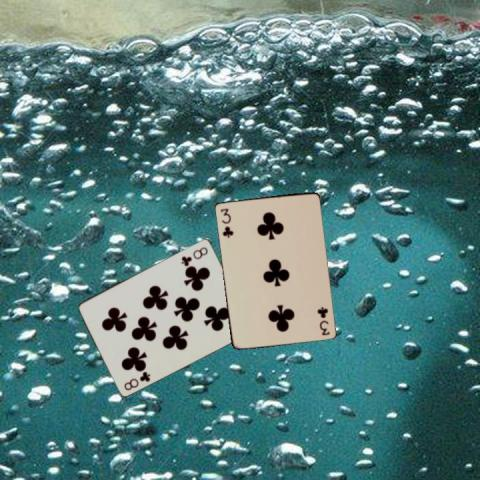3c: (217, 205, 235, 239), (315, 303, 331, 337)
8c: (178, 243, 209, 267), (121, 368, 152, 391)
